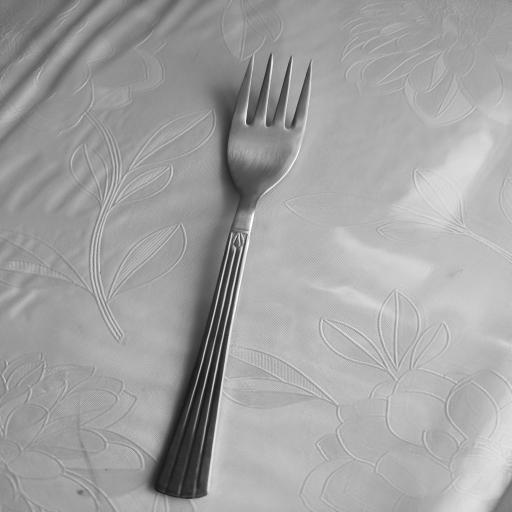fork: (149, 50, 318, 501)
